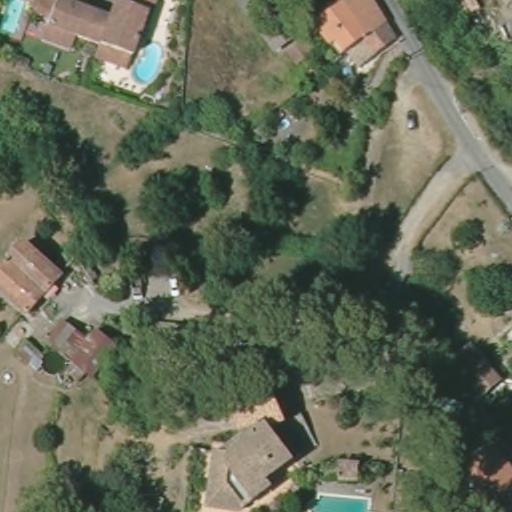pool: (306, 489, 379, 512), (126, 39, 163, 84), (1, 1, 33, 40)
